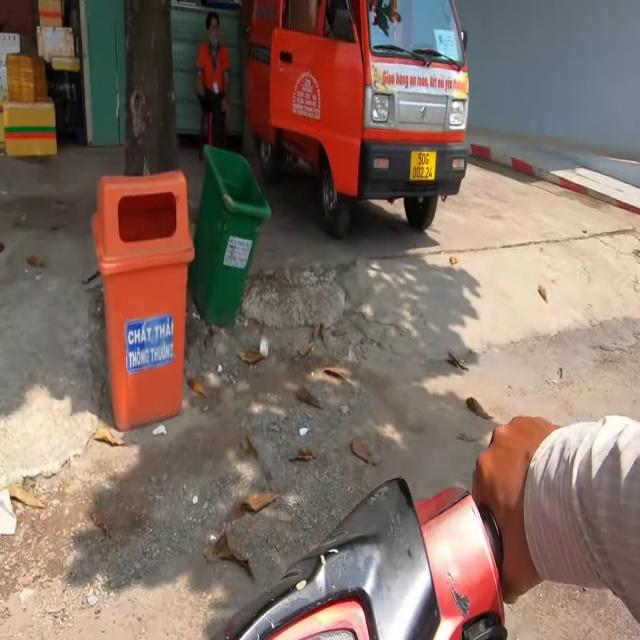bien_vang: (407, 147, 437, 186)
